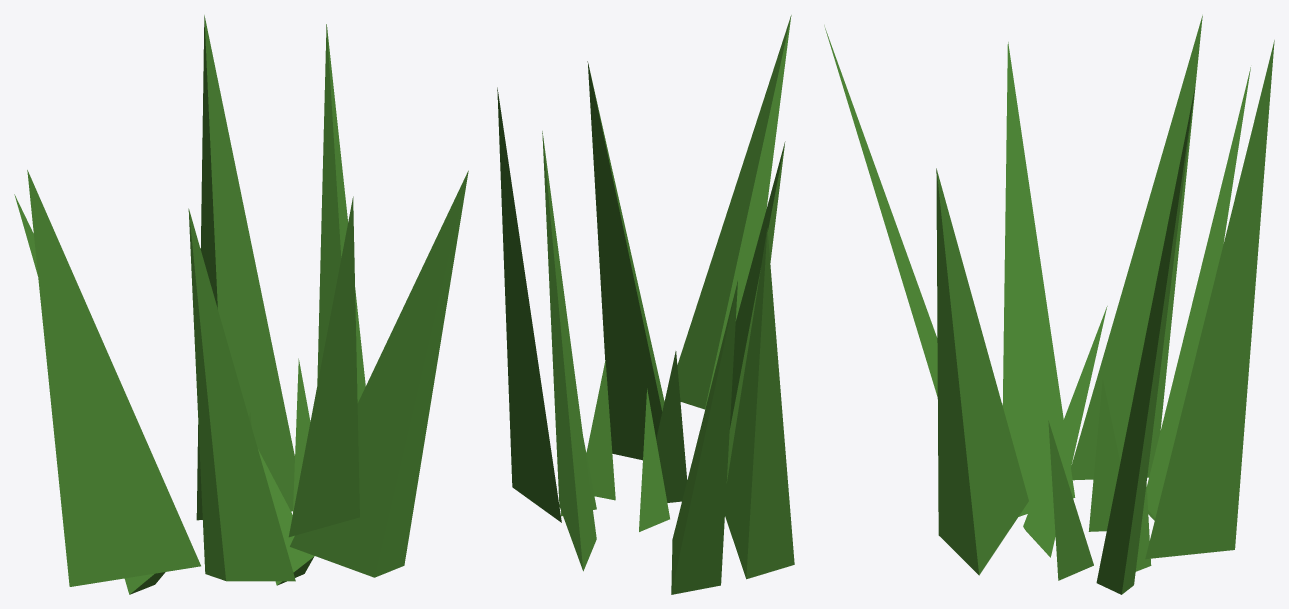
The model's file is tall_grass_sameTexture_Leaves.fbx.
3 renders of one model, left to right at view 1: azimuth 30°, elevation 25°; view 2: azimuth 150°, elevation 25°; view 3: azimuth 270°, elevation 25°, orthographic. The views are drawn at different scales.
Parts seen in each view (by area): view 1: tall_grass; view 2: tall_grass; view 3: tall_grass.
Part boxes in pixels (x1,y1,x2,y2): tall_grass: (14,15,468,594); tall_grass: (497,15,794,594); tall_grass: (824,15,1274,594).
Size of the model in its own units: 2.05 by 3.18 by 2.34.
